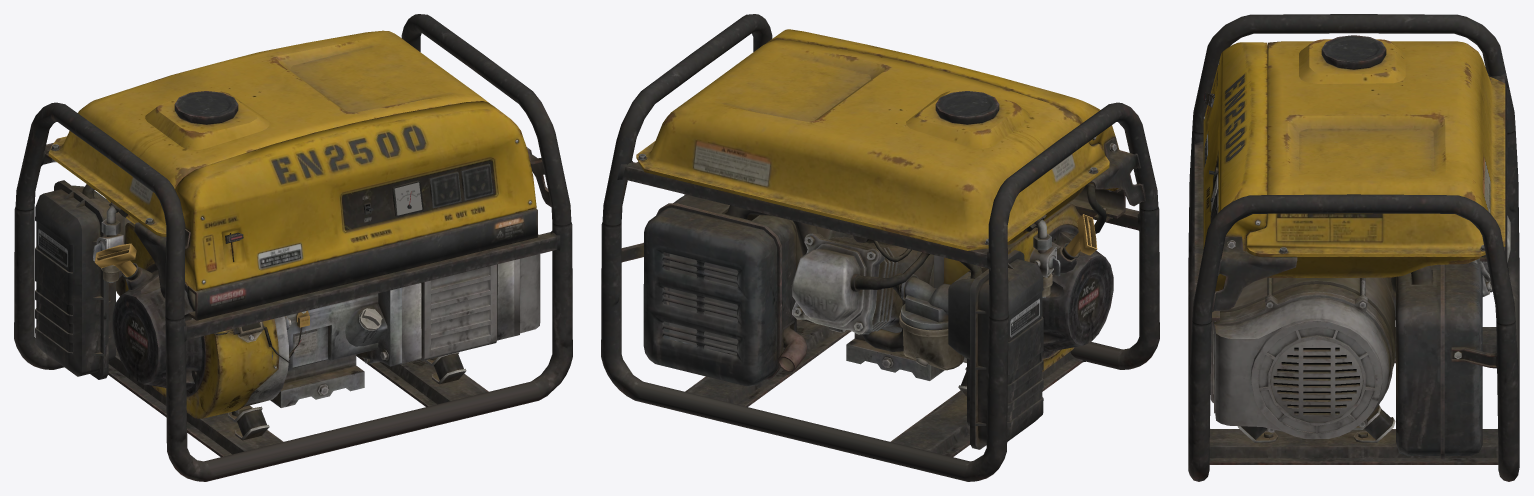
File: portable_generator.glb
3 views of the same model, side by side, from view 1: azimuth 30°, elevation 25°; view 2: azimuth 150°, elevation 25°; view 3: azimuth 270°, elevation 25° (orthographic).
Parts seen in each view (by area): view 1: portable_generator; view 2: portable_generator; view 3: portable_generator.
Part boxes in pixels (bbox=[...]): portable_generator: bbox=[14, 14, 572, 481]; portable_generator: bbox=[601, 14, 1159, 481]; portable_generator: bbox=[1188, 14, 1519, 481].
Size of the model in its own units: 0.8169 by 0.5752 by 0.564.
2 materials, 2 textured.
